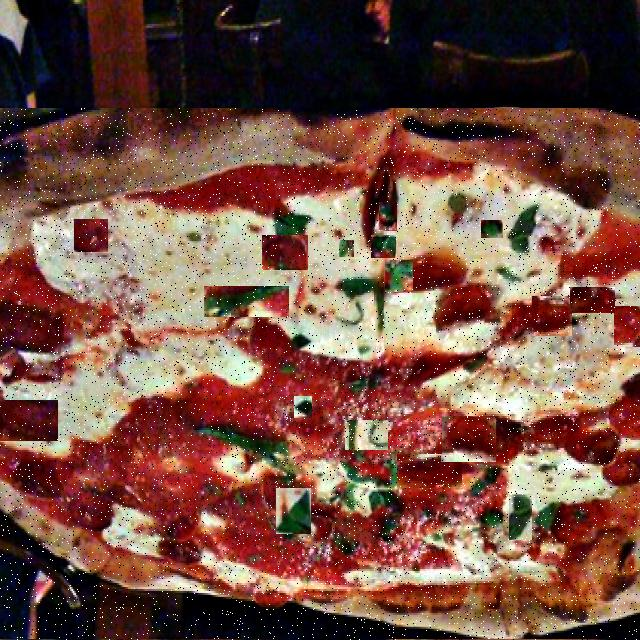Basil: (204, 286, 289, 317), (276, 488, 311, 534), (345, 420, 388, 450), (509, 494, 534, 540), (356, 273, 376, 321), (385, 260, 413, 292), (340, 451, 384, 471), (371, 235, 396, 258), (379, 202, 397, 231), (480, 219, 506, 239), (539, 218, 558, 240), (482, 220, 504, 238), (294, 396, 312, 418), (339, 240, 354, 257), (455, 532, 465, 556)
Pepperoni: (442, 416, 496, 462), (0, 400, 58, 441), (467, 288, 520, 332), (398, 454, 463, 488), (262, 235, 308, 270), (532, 296, 572, 336), (19, 256, 64, 288), (570, 287, 615, 313), (74, 219, 108, 252), (614, 306, 640, 347), (608, 260, 640, 292)
Pizza: (0, 108, 640, 640)
